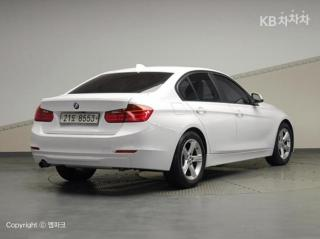1: (67, 114, 72, 122)
2: (63, 114, 68, 122)
3: (90, 114, 95, 121)
5: (83, 114, 87, 122), (87, 114, 91, 122)
8: (78, 114, 83, 122)
도: (72, 114, 77, 122)
